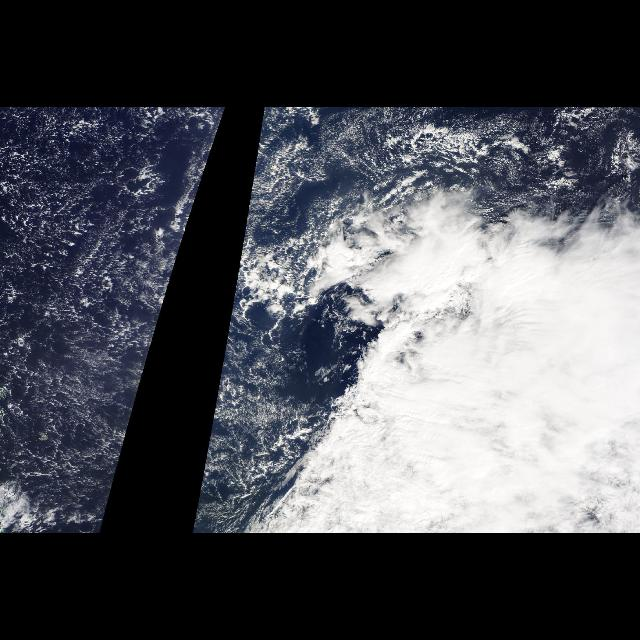Gravel: (2, 110, 225, 480), (208, 116, 294, 442)
